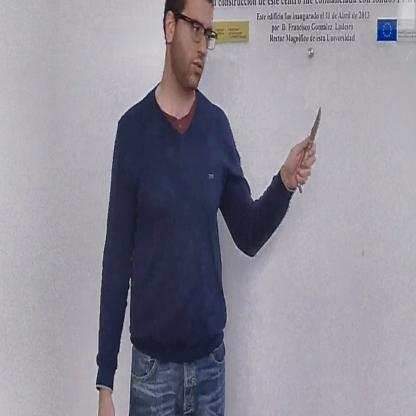knife: (294, 98, 324, 198)
